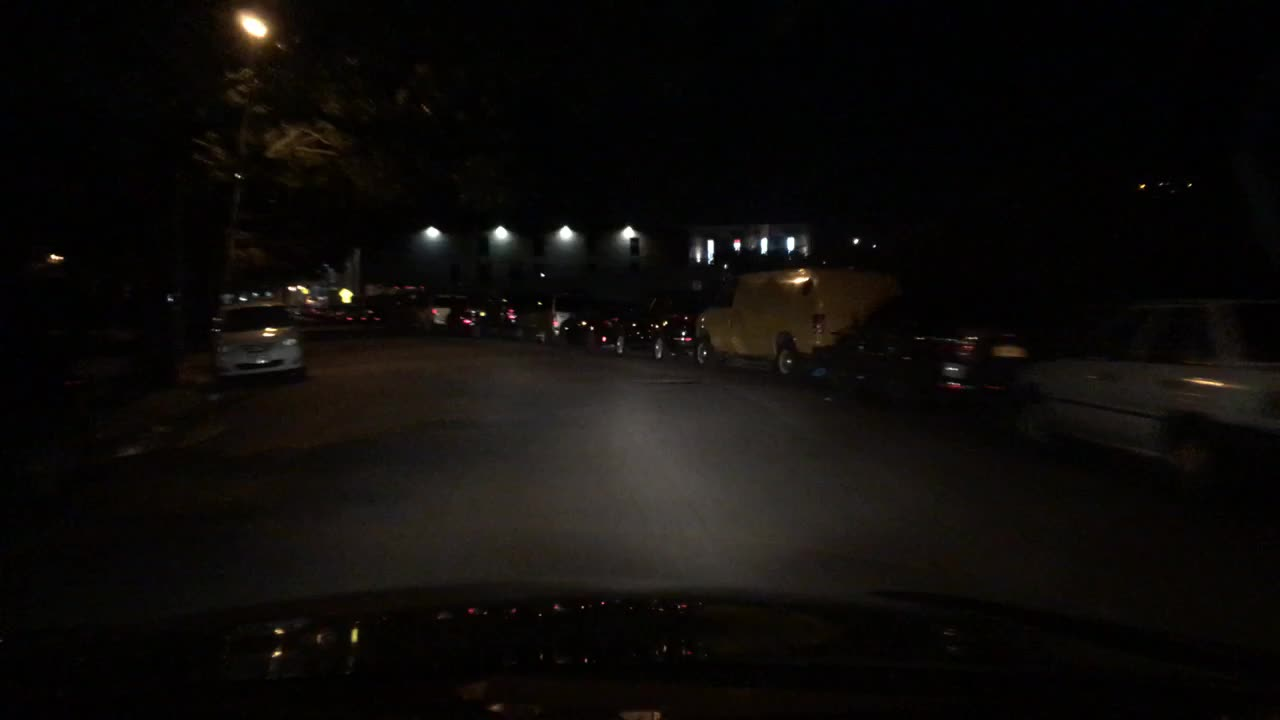car: (1007, 294, 1279, 477), (847, 286, 1044, 409), (690, 265, 895, 378), (208, 299, 304, 382), (612, 280, 702, 358), (560, 288, 635, 354), (527, 287, 584, 339), (487, 294, 527, 338), (382, 280, 427, 315), (449, 294, 484, 330), (425, 291, 452, 327), (343, 302, 385, 325), (312, 296, 340, 321)
